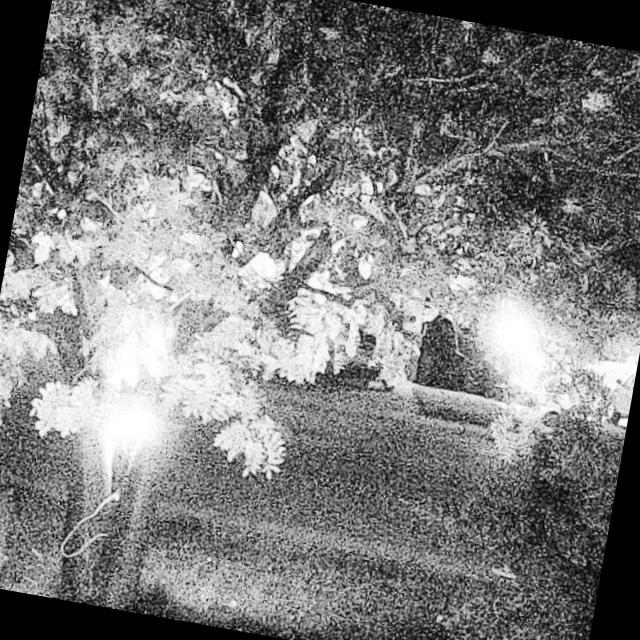Tree: (0, 0, 417, 640)
